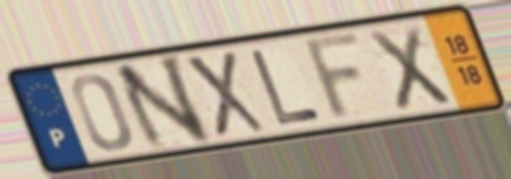0: (68, 71, 135, 153)
F: (300, 27, 370, 126)
L: (246, 47, 326, 128)
N: (109, 50, 216, 156)
X: (364, 22, 456, 115), (180, 48, 271, 140)
